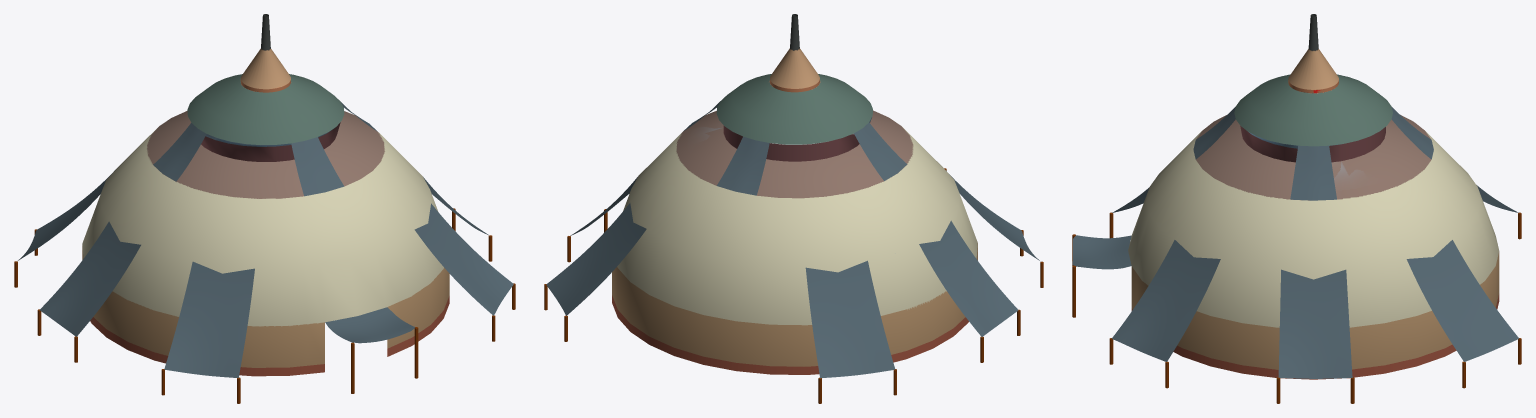
The model's file is akrebalk-great-urt.glb.
3 views of the same model, side by side, from view 1: azimuth 30°, elevation 25°; view 2: azimuth 150°, elevation 25°; view 3: azimuth 270°, elevation 25° (orthographic).
Visible parts, largest first — view 1: Urt; view 2: Urt; view 3: Urt.
Part boxes in pixels (box(x1,y1,x2,y2)): Urt: box(14, 14, 515, 403); Urt: box(544, 14, 1043, 403); Urt: box(1072, 14, 1521, 403).
Bounding box in the file's own units: 26.2 × 17 × 24.2.
3 materials, 1 textured.
